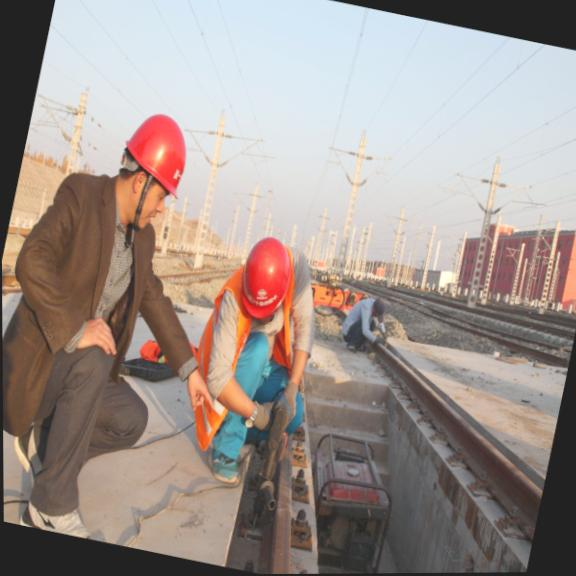no_safety_vest: (1, 159, 189, 442), (175, 259, 305, 447), (339, 291, 379, 342)
